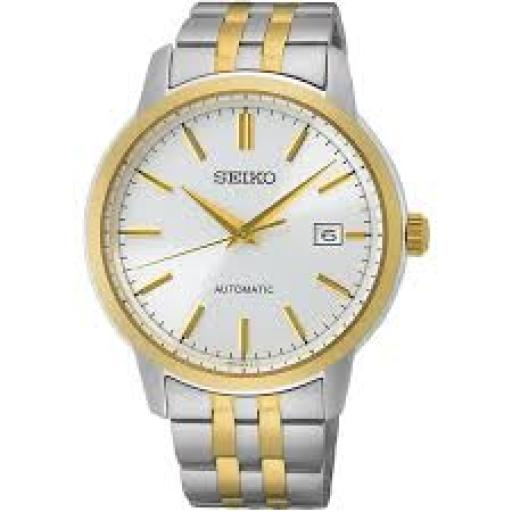KolSaati: (69, 0, 456, 512)
